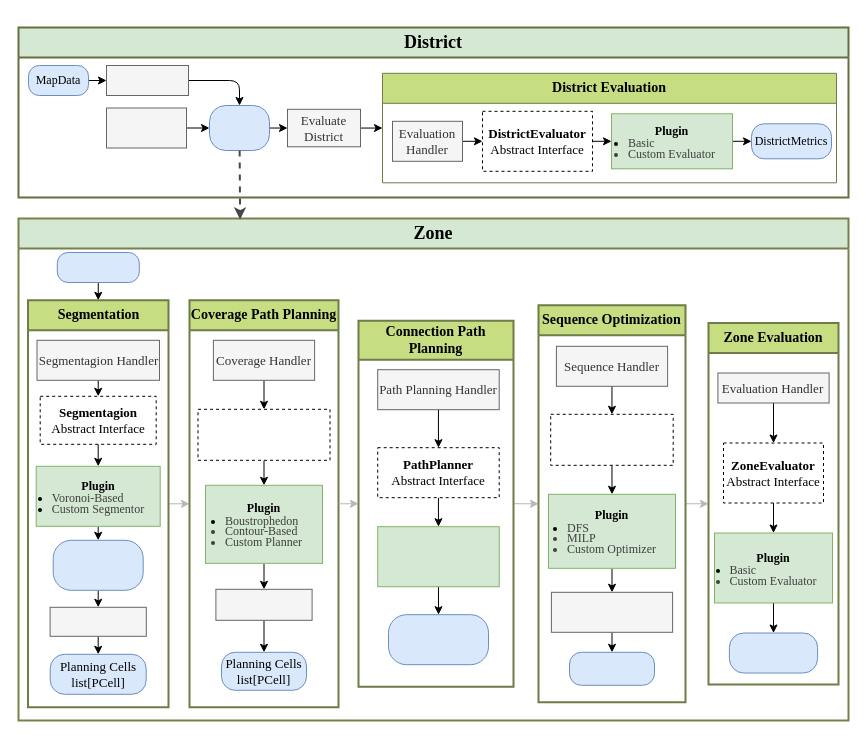
This 866x739 diagram has some shape labels left out. The shapes that lost their labels are listed below. From the top down, each one's centre as x and y in pixels, then its label:
the point at 147,80: Create Zones
the point at 146,127: Run CPP Pipeline
the point at 239,127: Zones list[Zone]
the point at 97,267: ZoneMapData
the point at 263,434: CoveragePathPlanner Abstract Interface
the point at 611,439: SequenceOptimizer Abstract Interface
the point at 97,564: Cells list[BasicCell]
the point at 438,556: Plugin A* Custom Planner
the point at 97,621: Analyze Cells
the point at 263,604: Add Cell Paths
the point at 611,611: Create Complete Path
the point at 438,639: Connections list[Path]
the point at 773,652: ZoneMetrics
the point at 611,668: Sequence
